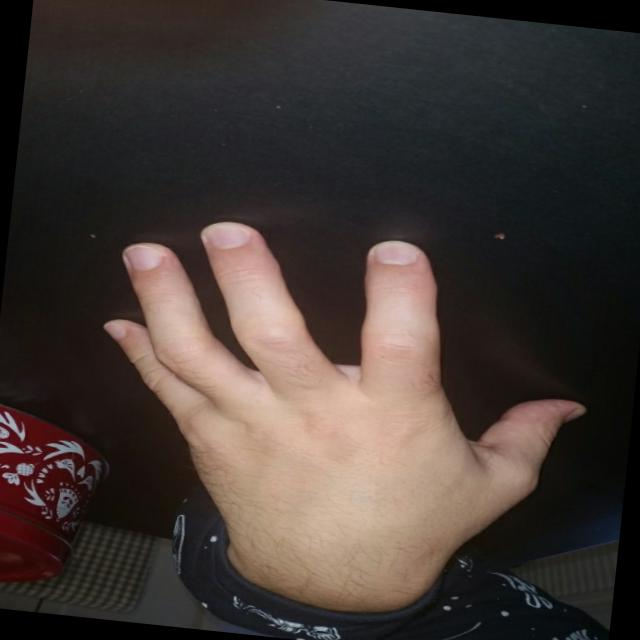Nail: (203, 221, 249, 248), (121, 244, 162, 269), (372, 241, 415, 264), (102, 322, 126, 338), (563, 407, 584, 422)
